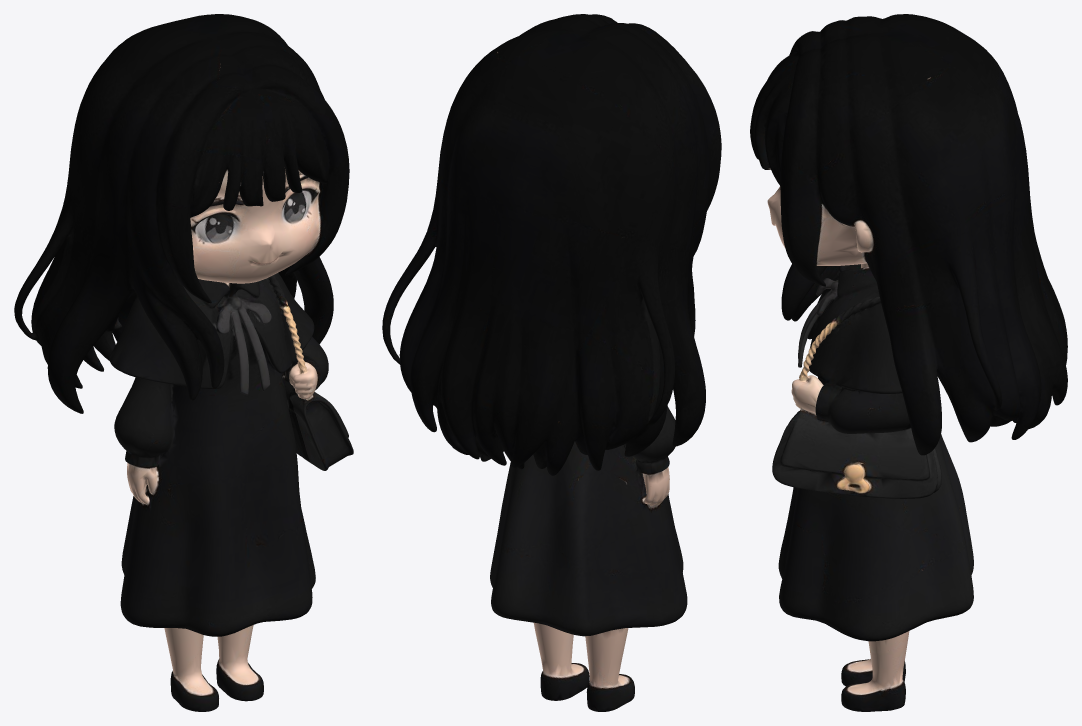
File: chibi-figure-ios-1k.glb
3 renders of one model, left to right at view 1: azimuth 30°, elevation 25°; view 2: azimuth 150°, elevation 25°; view 3: azimuth 270°, elevation 25°, orthographic.
Visible parts, largest first — view 1: Mesh_0; view 2: Mesh_0; view 3: Mesh_0.
Part boxes in pixels (x1,y1,x2,y2): Mesh_0: [14, 14, 353, 711]; Mesh_0: [382, 14, 721, 711]; Mesh_0: [750, 14, 1067, 711].
Size of the model in its own units: 0.091 by 0.2 by 0.087.
Materials: 1 (1 with a texture image).
